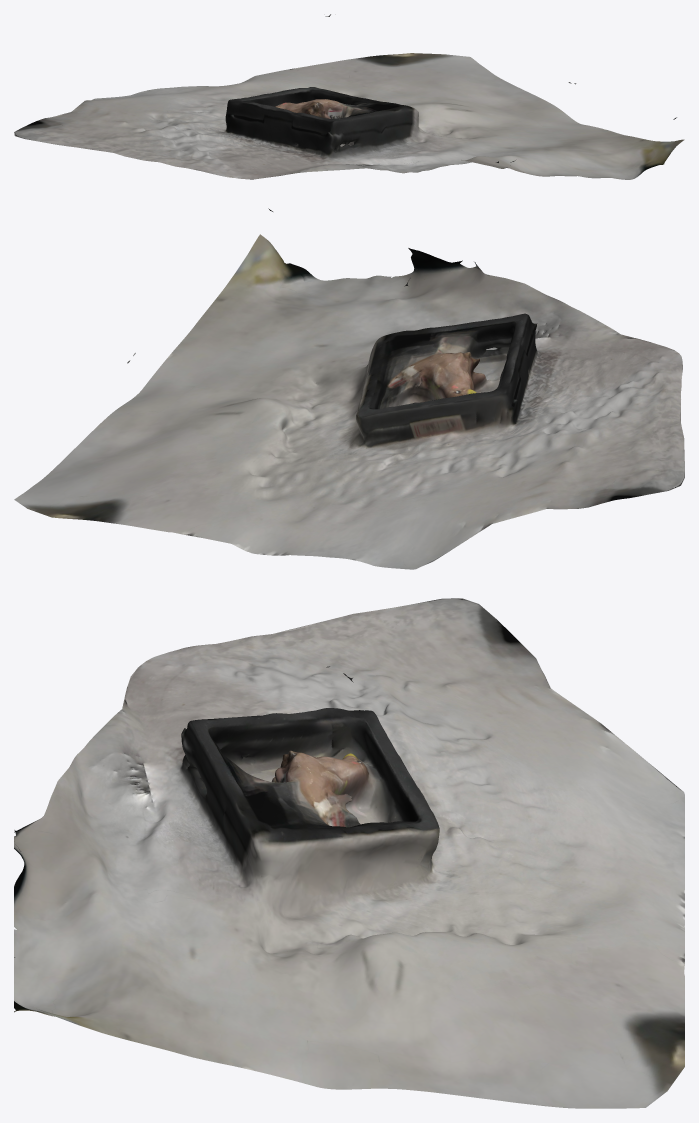
The picture shows the model from 3 angles, top to bottom: view 1: azimuth 30°, elevation 25°; view 2: azimuth 150°, elevation 25°; view 3: azimuth 270°, elevation 25°; orthographic projection. The views are drawn at different scales.
Size of the model in its own units: 3.21 by 1.07 by 2.44.
1 material, 1 textured.
